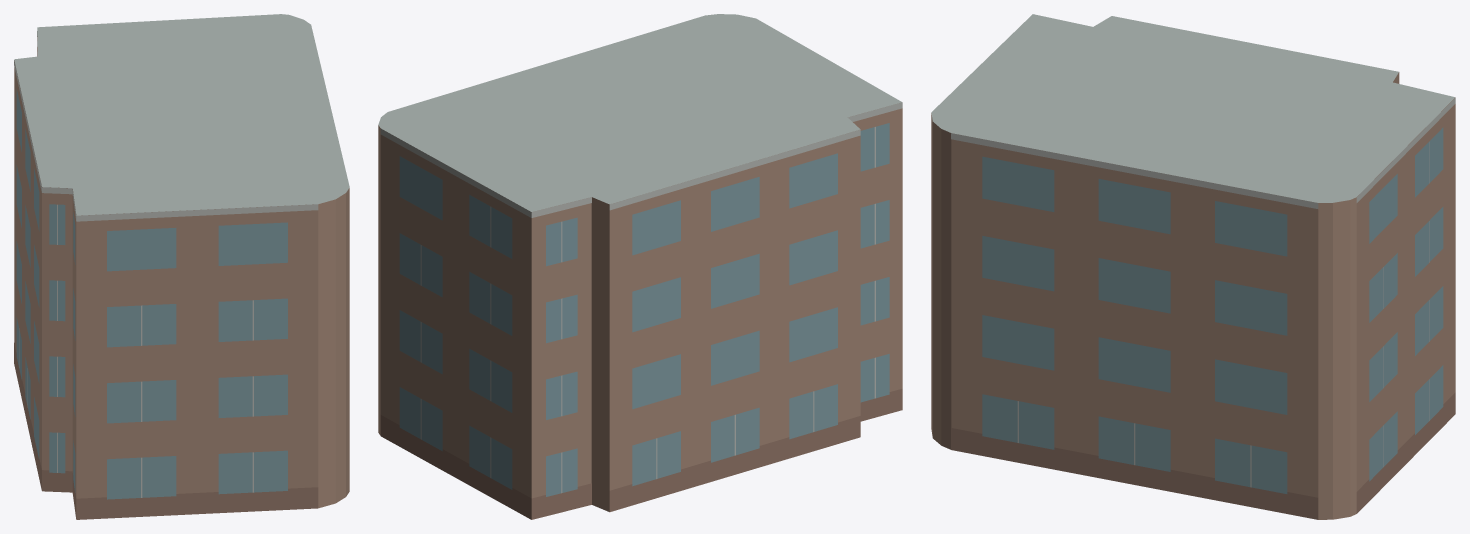
File: survey-upis-32725757.glb
3 renders of one model, left to right at view 1: azimuth 30°, elevation 25°; view 2: azimuth 150°, elevation 25°; view 3: azimuth 270°, elevation 25°, orthographic. The views are drawn at different scales.
Parts seen in each view (by area): view 1: survey-upis-32725757.tmp; view 2: survey-upis-32725757.tmp; view 3: survey-upis-32725757.tmp.
Boxes of the visible parts, x1,y1,x2,y2 form: survey-upis-32725757.tmp: (14, 14, 349, 519); survey-upis-32725757.tmp: (378, 14, 902, 519); survey-upis-32725757.tmp: (931, 14, 1455, 519).
Bounding box in the file's own units: 15.87 × 12.4 × 18.6.
